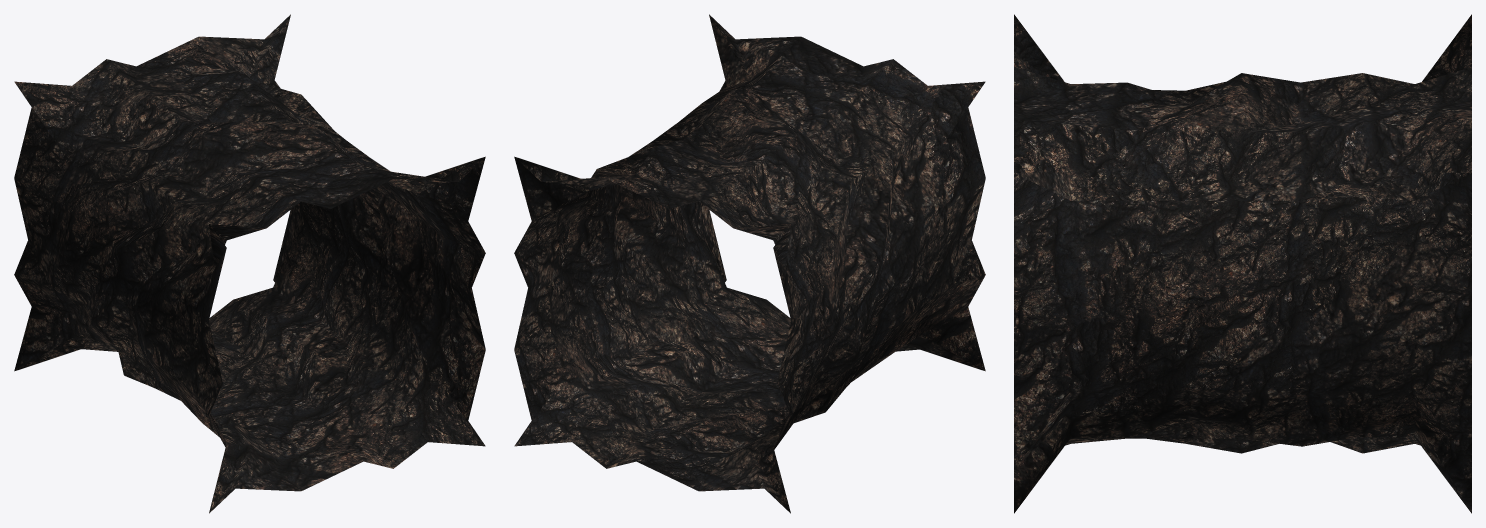
File: Level Piece - Straight.FBX
3 renders of one model, left to right at view 1: azimuth 30°, elevation 25°; view 2: azimuth 150°, elevation 25°; view 3: azimuth 270°, elevation 25°, orthographic. The views are drawn at different scales.
Parts seen in each view (by area): view 1: Straight001; view 2: Straight001; view 3: Straight001.
Part boxes in pixels (x1,y1,x2,y2): Straight001: (14, 14, 485, 513); Straight001: (514, 14, 985, 513); Straight001: (1014, 14, 1471, 513).
Bounding box in the file's own units: 82.16 × 82.16 × 100.
1 material, 1 textured.
